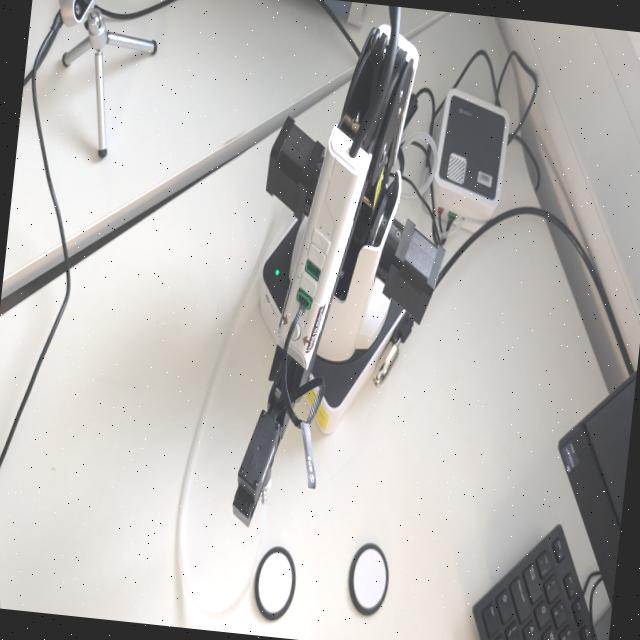Robot-end-effector-HF8z: (228, 402, 286, 535)
